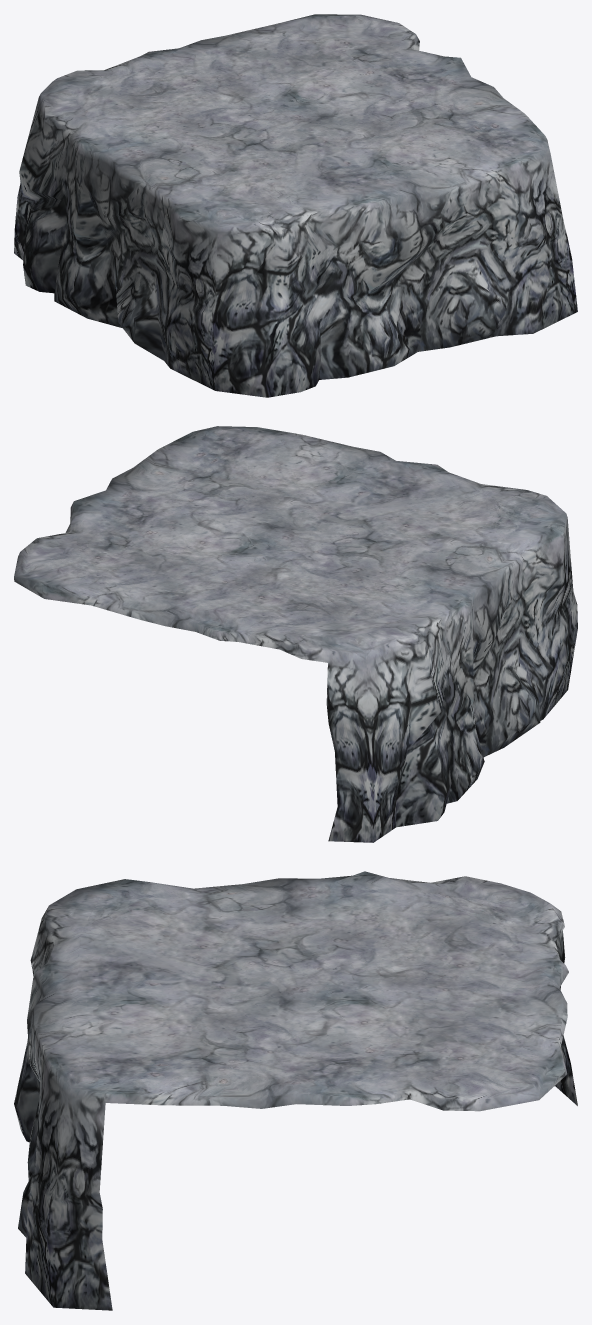
The model's file is STR_FloorCaveC01.FBX.
The picture shows the model from 3 angles, top to bottom: view 1: azimuth 30°, elevation 25°; view 2: azimuth 150°, elevation 25°; view 3: azimuth 270°, elevation 25°; orthographic projection. The views are drawn at different scales.
Visible parts, largest first — view 1: STR_FloorCaveC01; view 2: STR_FloorCaveC01; view 3: STR_FloorCaveC01.
Part boxes in pixels (x1,y1,x2,y2): STR_FloorCaveC01: (14, 14, 577, 397); STR_FloorCaveC01: (14, 426, 577, 842); STR_FloorCaveC01: (14, 871, 577, 1310).
Bounding box in the file's own units: 1001 × 405 × 985.
